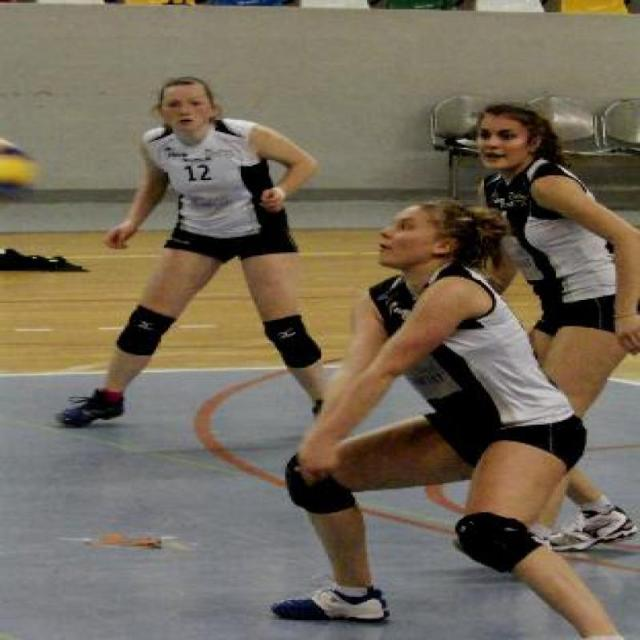volleyball: (0, 138, 35, 198)
